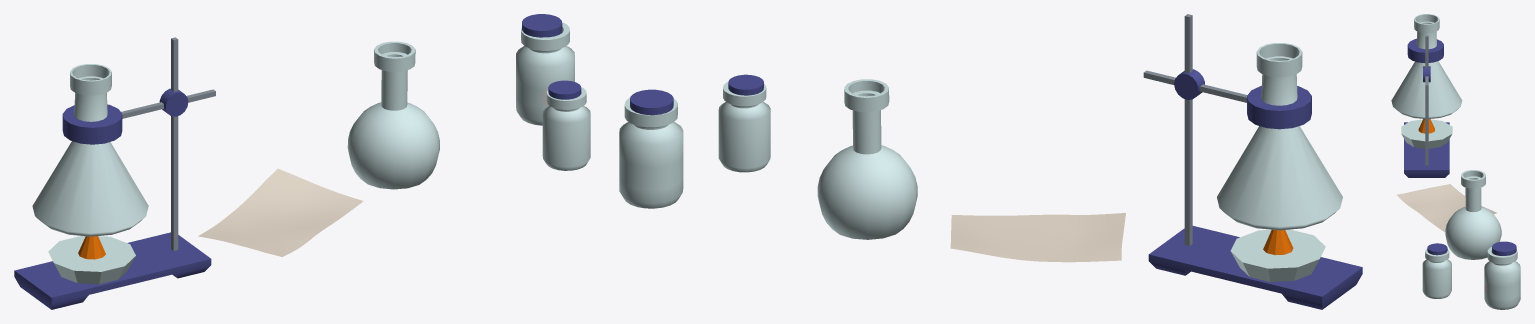
Rendered from materiel_ilot_03.fbx.
The picture shows the model from 3 angles, left to right: view 1: azimuth 30°, elevation 25°; view 2: azimuth 150°, elevation 25°; view 3: azimuth 270°, elevation 25°; orthographic projection. The views are drawn at different scales.
Visible parts, largest first — view 1: materiel_ilot_03; view 2: materiel_ilot_03; view 3: materiel_ilot_03.
Part boxes in pixels (x1,y1,x2,y2): materiel_ilot_03: (14,14,590,309); materiel_ilot_03: (619,14,1362,309); materiel_ilot_03: (1391,14,1520,309).
Size of the model in its own units: 271 by 98.05 by 82.88.
